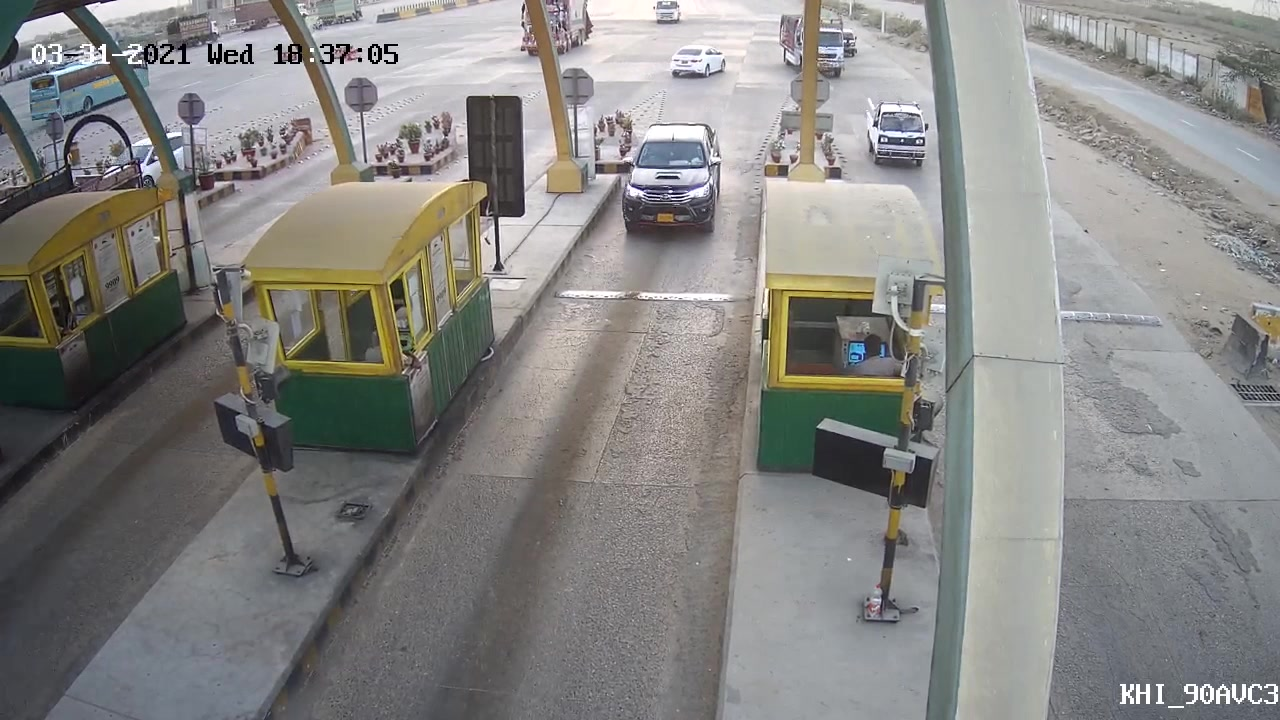F1: (603, 116, 732, 244)
